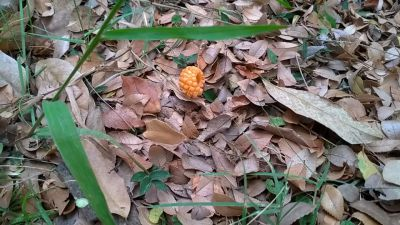eggs: (174, 64, 207, 100)
